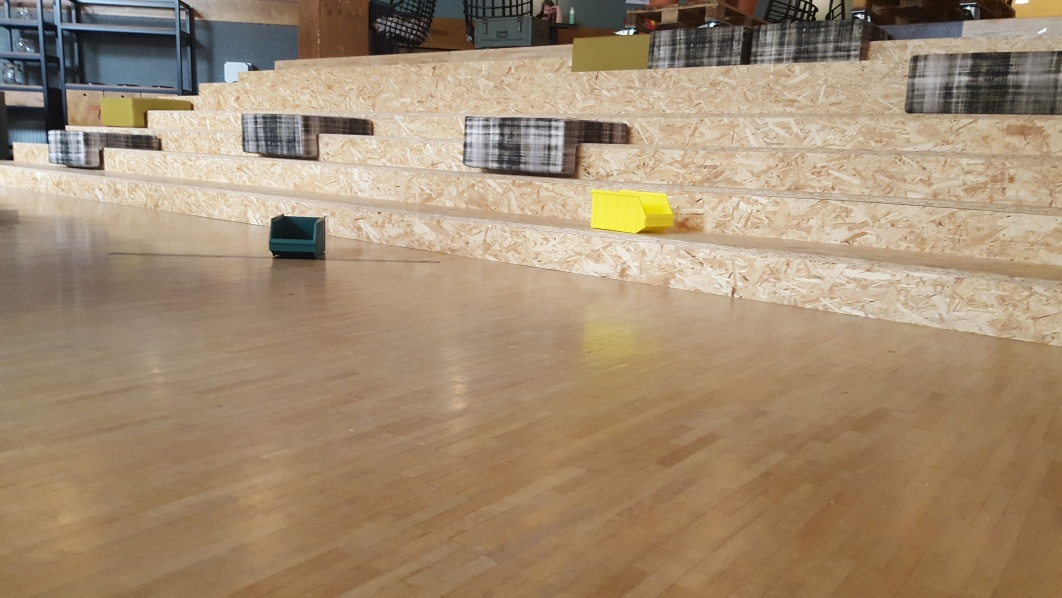tray: (587, 189, 679, 238), (268, 214, 330, 255)
